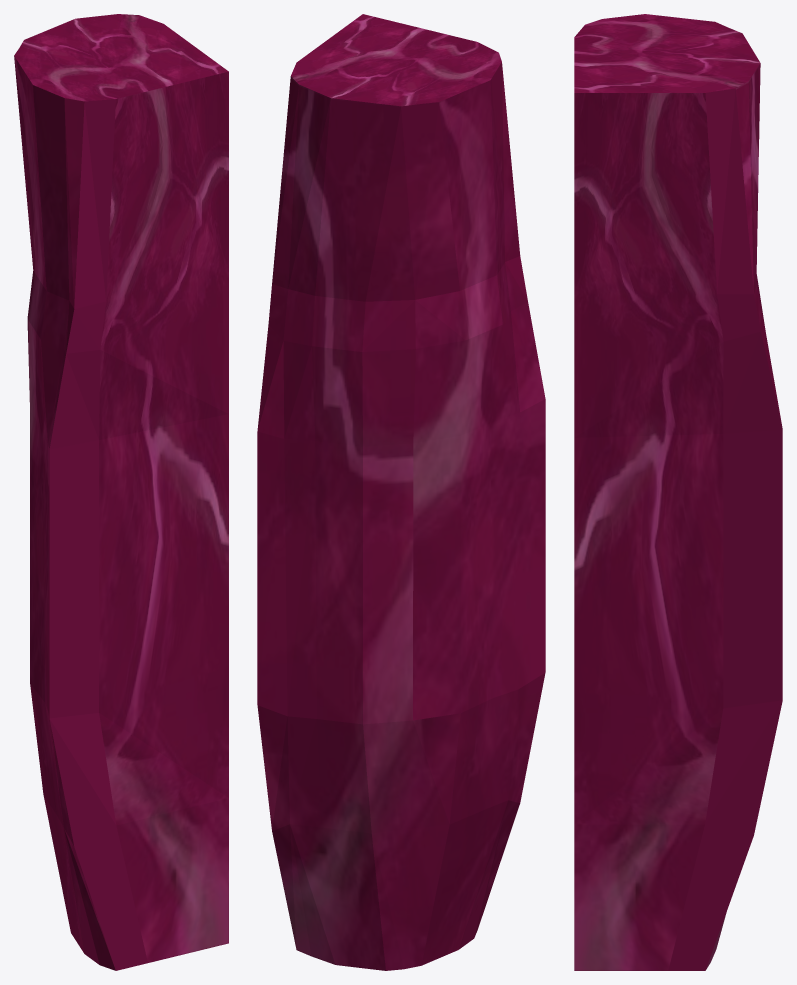
File: EspacioPornoEsquinaAperturaInteriorAltoNI.gltf
3 views of the same model, side by side, from view 1: azimuth 30°, elevation 25°; view 2: azimuth 150°, elevation 25°; view 3: azimuth 270°, elevation 25° (orthographic).
Parts seen in each view (by area): view 1: Cubo.27; view 2: Cubo.27; view 3: Cubo.27.
Part boxes in pixels (x1,y1,x2,y2): Cubo.27: [14, 14, 228, 970]; Cubo.27: [257, 14, 545, 970]; Cubo.27: [574, 14, 782, 970].
Size of the model in its own units: 0.4307 by 2 by 0.4307.
Materials: 1 (1 with a texture image).
